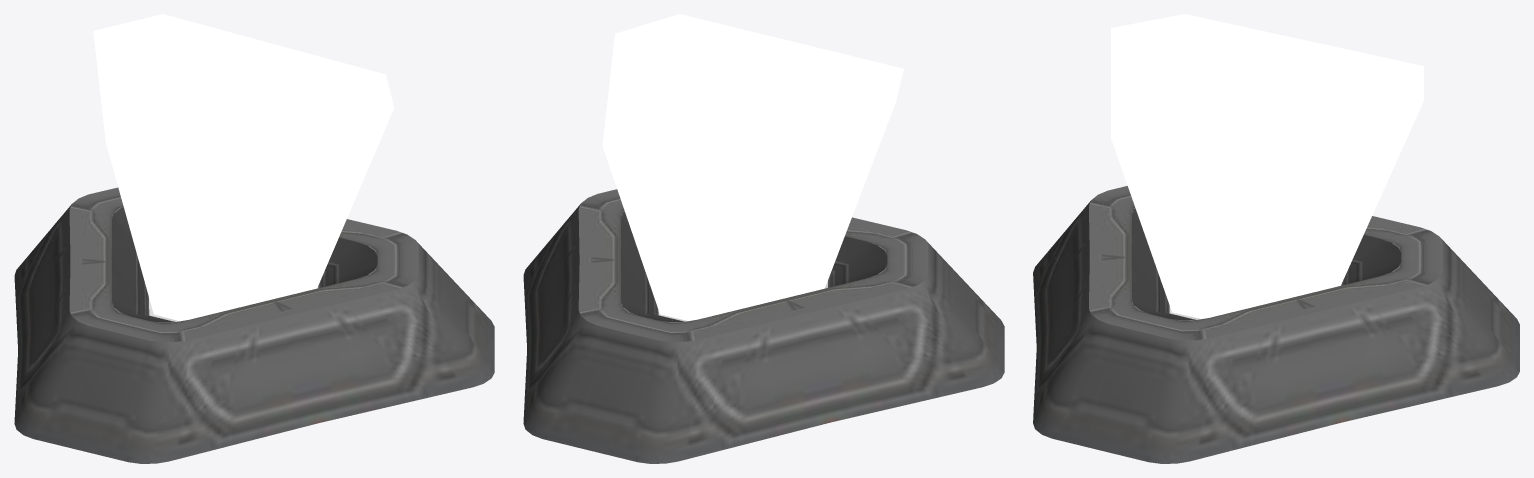
Rendered from sf_item_holder.glb.
3 views of the same model, side by side, from view 1: azimuth 30°, elevation 25°; view 2: azimuth 150°, elevation 25°; view 3: azimuth 270°, elevation 25° (orthographic).
Parts seen in each view (by area): view 1: Prop_ItemHolder; view 2: Prop_ItemHolder; view 3: Prop_ItemHolder.
Part boxes in pixels (box(x1,y1,x2,y2)): Prop_ItemHolder: box(14, 14, 494, 463); Prop_ItemHolder: box(523, 14, 1004, 463); Prop_ItemHolder: box(1033, 14, 1519, 463).
Size of the model in its own units: 0.8186 by 0.4358 by 0.7267.
Materials: 3 (2 with a texture image).
